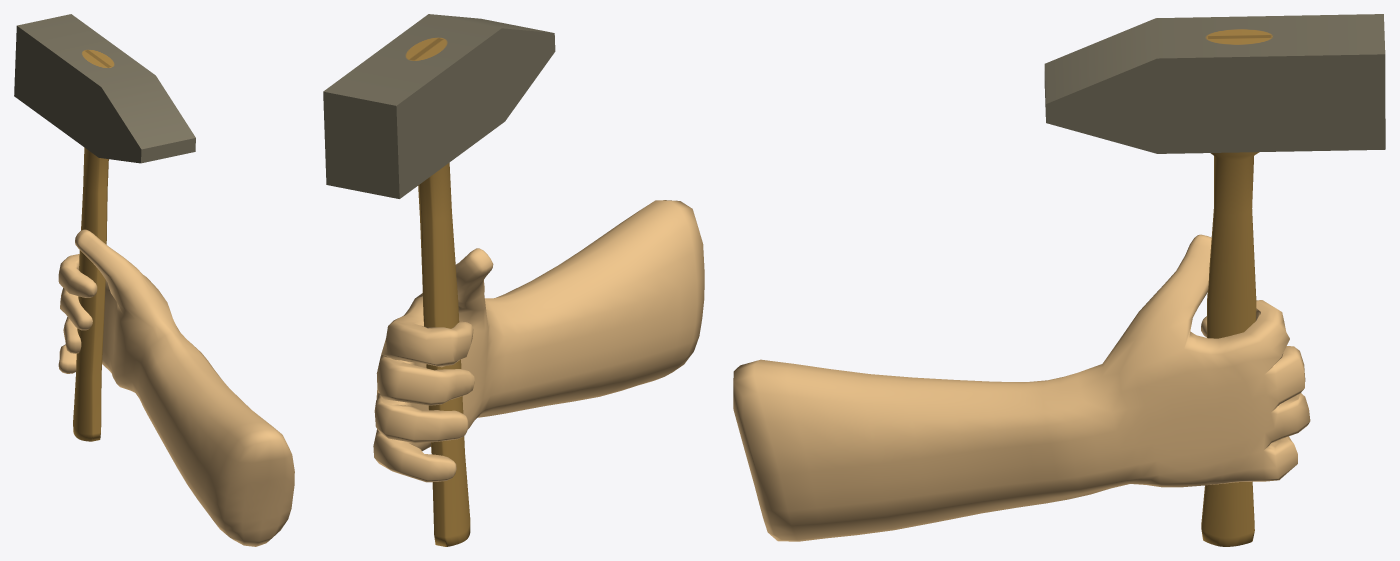
Rendered from new hand and hammer.fbx.
3 views of the same model, side by side, from view 1: azimuth 30°, elevation 25°; view 2: azimuth 150°, elevation 25°; view 3: azimuth 270°, elevation 25° (orthographic). The views are drawn at different scales.
Visible parts, largest first — view 1: pCube1, pasted__pasted__pCube3; view 2: pCube1, pasted__pasted__pCube3; view 3: pCube1, pasted__pasted__pCube3.
Boxes of the visible parts, <box> form: pCube1: <box>58,229,294,546</box>; pasted__pasted__pCube3: <box>14,14,195,441</box>; pCube1: <box>373,200,704,482</box>; pasted__pasted__pCube3: <box>323,14,555,546</box>; pCube1: <box>733,234,1310,541</box>; pasted__pasted__pCube3: <box>1044,14,1385,546</box>.
Size of the model in its own units: 2.6 by 10.59 by 12.04.
2 materials, 2 textured.
